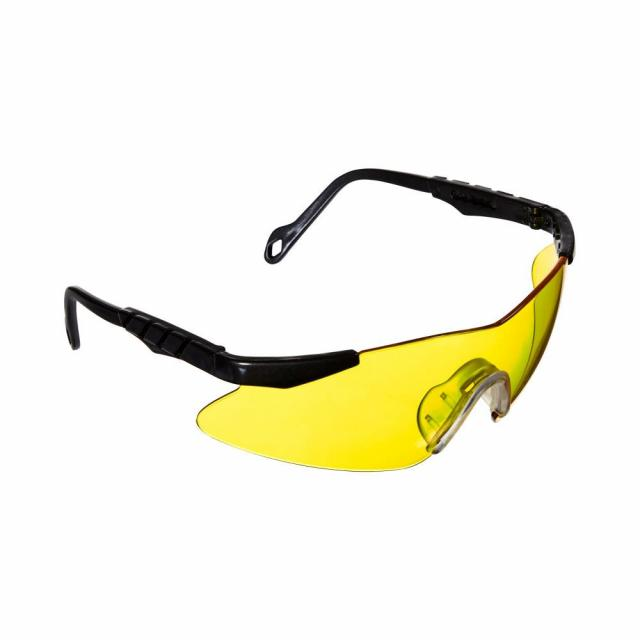Protective Glasses: (33, 144, 620, 512)
